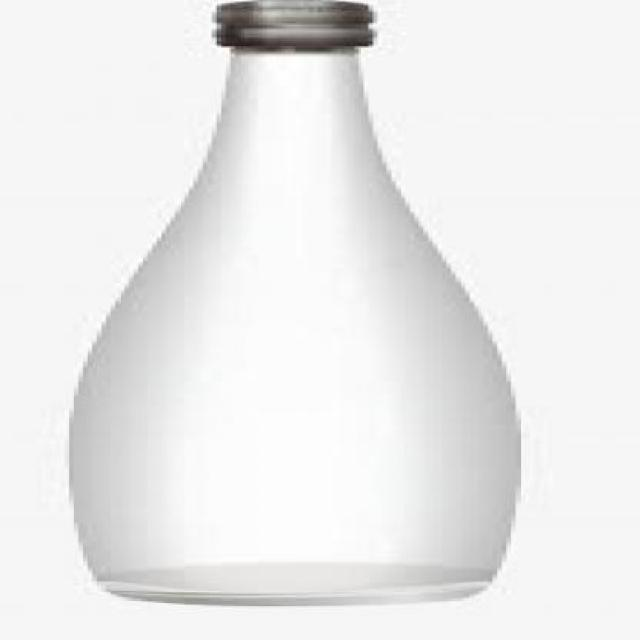kaca: (64, 42, 516, 603)
